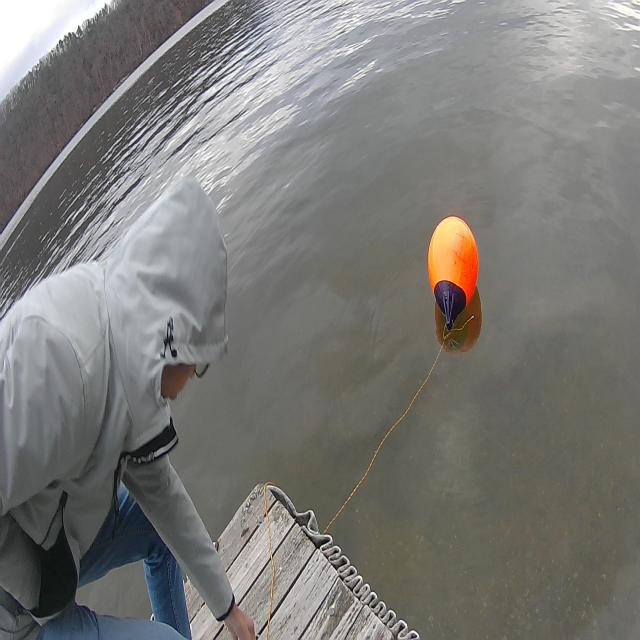Buoy: (423, 206, 487, 345)
